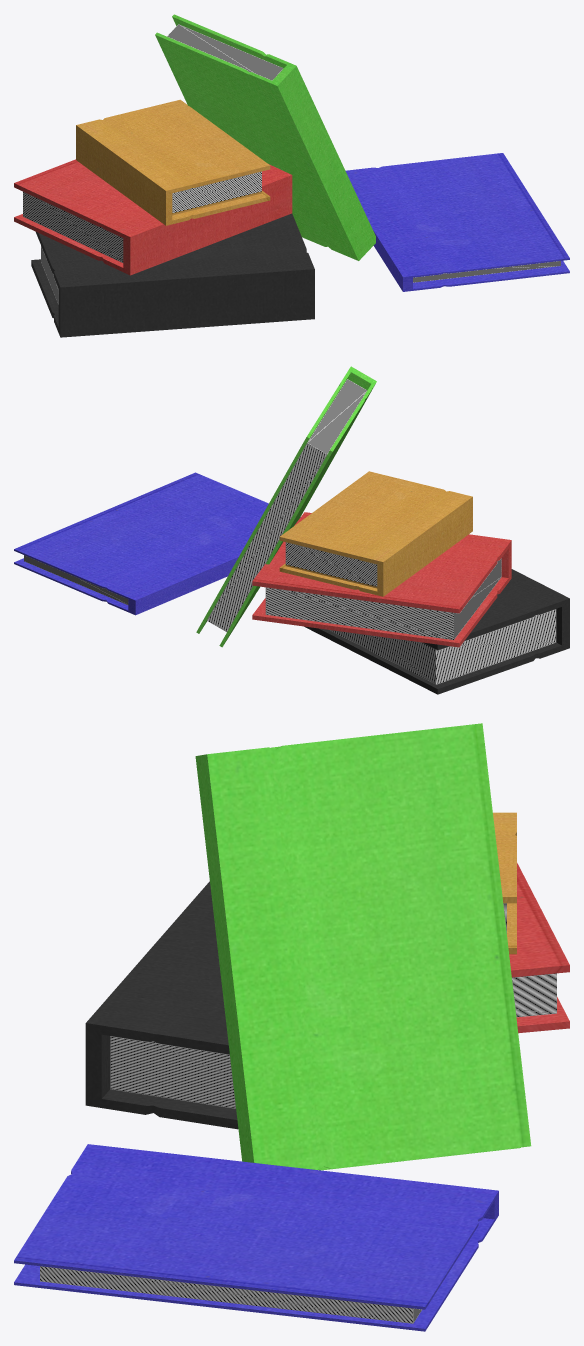
Rendered from books_pile.fbx.
3 renders of one model, top to bottom at view 1: azimuth 30°, elevation 25°; view 2: azimuth 150°, elevation 25°; view 3: azimuth 270°, elevation 25°, orthographic. The views are drawn at different scales.
Parts seen in each view (by area): view 1: BookBlack, BookBlue, BookGreen, BookYellow, BookRed; view 2: BookBlue, BookRed, BookYellow, BookBlack, BookGreen; view 3: BookGreen, BookBlue, BookBlack, BookRed, BookYellow.
Boxes of the visible parts, bbox=[...] form: BookBlack: bbox=[31, 213, 314, 337]; BookBlue: bbox=[345, 153, 569, 291]; BookGreen: bbox=[155, 14, 375, 260]; BookYellow: bbox=[76, 99, 270, 225]; BookRed: bbox=[14, 159, 292, 275]; BookBlue: bbox=[14, 472, 300, 615]; BookRed: bbox=[252, 512, 511, 647]; BookYellow: bbox=[279, 471, 472, 596]; BookBlack: bbox=[304, 569, 569, 694]; BookGreen: bbox=[196, 366, 376, 647]; BookGreen: bbox=[195, 723, 531, 1170]; BookBlue: bbox=[14, 1144, 498, 1331]; BookBlack: bbox=[85, 881, 238, 1129]; BookRed: bbox=[509, 863, 569, 1033]; BookYellow: bbox=[493, 812, 516, 954].
Size of the model in its own units: 426 by 181 by 249.
